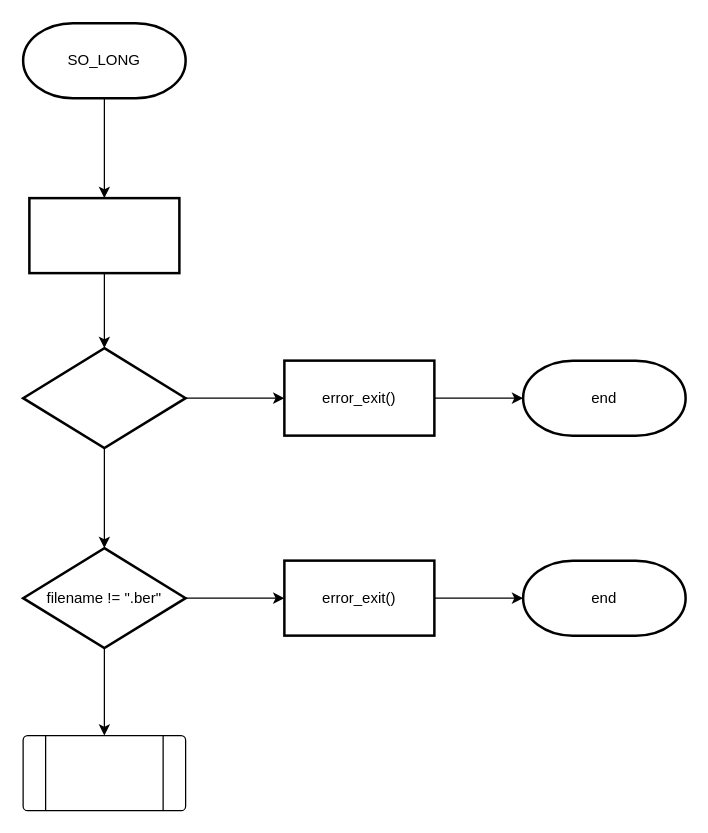
Some shapes in this 708 by 833 pixel diagram are drawn without their labels. Each missing label, with the centre of its shape:
argc != 2: (x=103, y=397)
CHECK_MAP: (x=104, y=772)
init_game_: (x=104, y=235)
